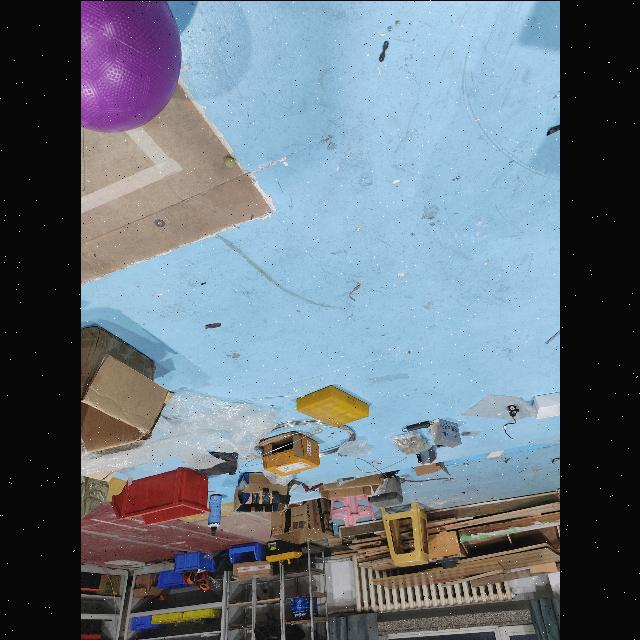P: (80, 0, 180, 136)
